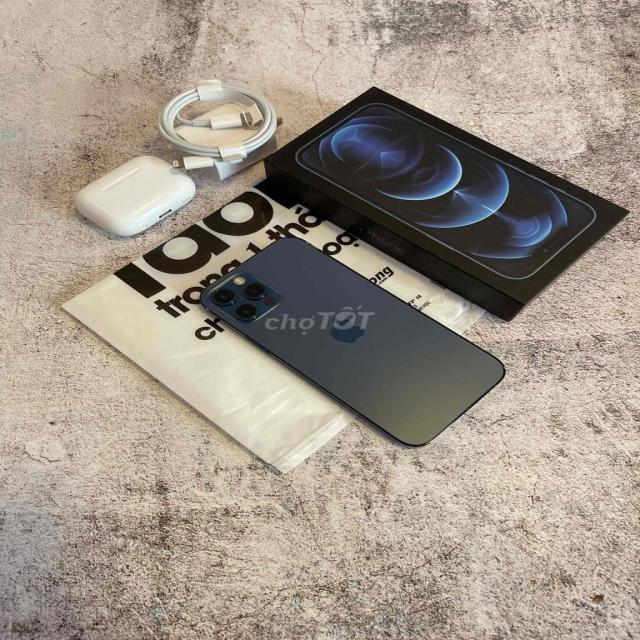gen_12_13: (197, 234, 511, 455)
